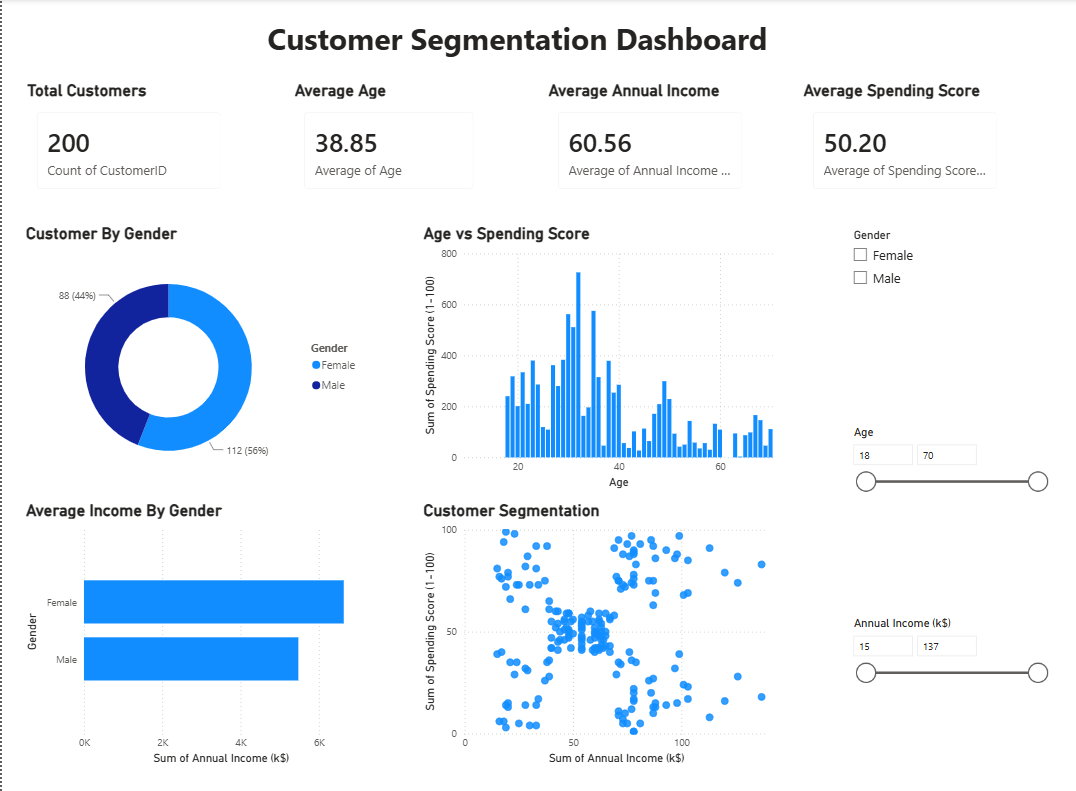

The dashboard page shown, as its layout file describes it:
{"tool":"powerbi","page":{"name":"Page 1","canvas":[1350,1000],"ordinal":0},"visuals":[{"type":"textbox","box":[26.1,19.2,1237.7,70],"z":0},{"type":"cardVisual","title":"Total Customers","fields":{"Data":["CountNonNull(Mall_Customers.CustomerID)"]},"box":[26.1,101.5,264.8,153.7],"z":1},{"type":"cardVisual","title":"Average Age","fields":{"Data":["Avg(Mall_Customers.Age)"]},"box":[360.9,101.5,247,153.7],"z":2},{"type":"cardVisual","title":"Average Annual Income","fields":{"Data":["Avg(Mall_Customers.Annual Income (k$))"]},"box":[679.2,101.5,264.8,153.7],"z":3},{"type":"cardVisual","title":"Average Spending Score","fields":{"Data":["Avg(Mall_Customers.Spending Score (1-100))"]},"box":[999,101.5,264.8,153.7],"z":4},{"type":"donutChart","title":"Customer By Gender","fields":{"Category":["Mall_Customers.Gender"],"Y":["CountNonNull(Mall_Customers.CustomerID)"]},"box":[25.5,281.9,433.1,336.3],"z":5},{"type":"columnChart","title":"Age vs Spending Score","fields":{"Category":["Mall_Customers.Age"],"Y":["Sum(Mall_Customers.Spending Score (1-100))"]},"box":[523.1,281.9,451.8,336.3],"z":6},{"type":"scatterChart","title":"Customer Segmentation","fields":{"X":["Sum(Mall_Customers.Annual Income (k$))"],"Y":["Sum(Mall_Customers.Spending Score (1-100))"],"Category":["Mall_Customers.CustomerID"]},"box":[523.1,628.4,451.8,336.3],"z":7},{"type":"barChart","title":"Average Income By Gender","fields":{"Category":["Mall_Customers.Gender"],"Y":["Sum(Mall_Customers.Annual Income (k$))"]},"box":[25,628,433,336],"z":8},{"type":"slicer","fields":{"Values":["Mall_Customers.Gender"]},"box":[1053,281.9,264.9,195.3],"z":9},{"type":"slicer","fields":{"Values":["Mall_Customers.Age"]},"box":[1053,529.9,264.9,195.3],"z":10},{"type":"slicer","fields":{"Values":["Mall_Customers.Annual Income (k$)"]},"box":[1053,769.4,264.9,195.3],"z":11}]}

Visuals, with their boxes in screenshot pixels (x1, y1, x2, y2), scaled from the page's 1350x1000 canvas onto the 1076x791 screenshot:
textbox: [21,15,1007,71]
"Total Customers" cardVisual: [21,80,232,202]
"Average Age" cardVisual: [288,80,485,202]
"Average Annual Income" cardVisual: [541,80,752,202]
"Average Spending Score" cardVisual: [796,80,1007,202]
"Customer By Gender" donutChart: [20,223,366,489]
"Age vs Spending Score" columnChart: [417,223,777,489]
"Customer Segmentation" scatterChart: [417,497,777,763]
"Average Income By Gender" barChart: [20,497,365,763]
slicer - Mall_Customers.Gender: [839,223,1050,377]
slicer - Mall_Customers.Age: [839,419,1050,574]
slicer - Mall_Customers.Annual Income (k$): [839,609,1050,763]
